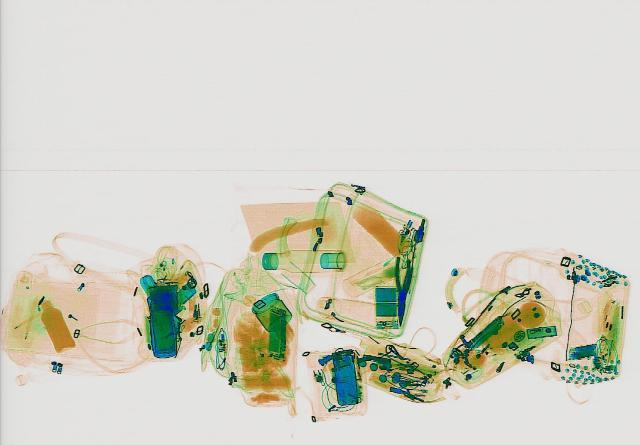Pliers: (391, 255, 413, 325)
